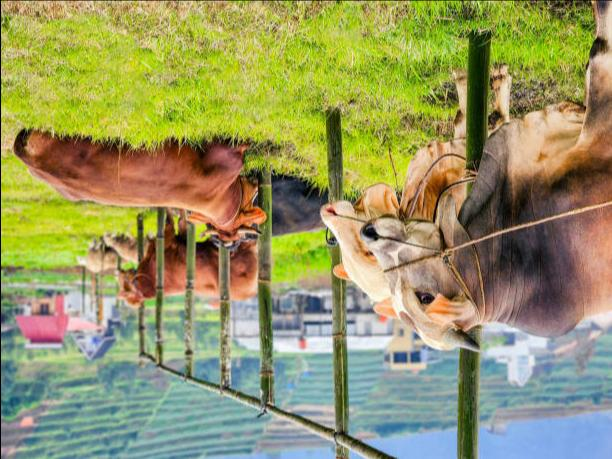Non_Gorille: (13, 0, 612, 455)
